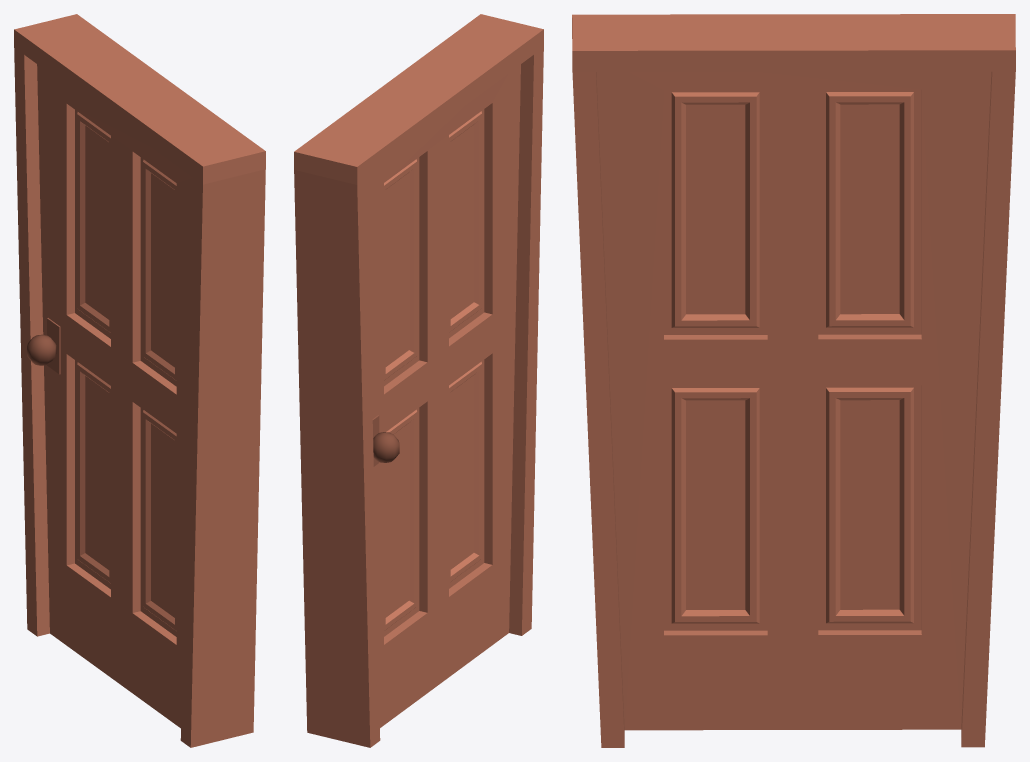
File: porte.fbx
The picture shows the model from 3 angles, left to right: view 1: azimuth 30°, elevation 25°; view 2: azimuth 150°, elevation 25°; view 3: azimuth 270°, elevation 25°; orthographic projection. The views are drawn at different scales.
Parts seen in each view (by area): view 1: PivotDoor001, Sphere001, Box001; view 2: PivotDoor001, Sphere001; view 3: PivotDoor001.
Boxes of the visible parts, bbox=[...] form: PivotDoor001: bbox=[14, 14, 265, 747]; Sphere001: bbox=[27, 334, 56, 365]; Box001: bbox=[47, 318, 60, 374]; PivotDoor001: bbox=[294, 14, 543, 747]; Sphere001: bbox=[373, 432, 399, 462]; PivotDoor001: bbox=[572, 14, 1015, 747].
Bounding box in the file's own units: 13.91 × 102 × 59.04.
